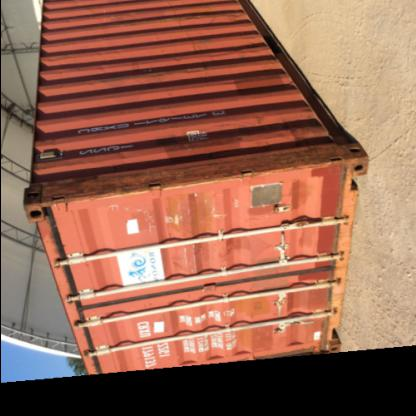Damage: (43, 166, 206, 210), (226, 145, 350, 175), (76, 46, 116, 89), (145, 64, 210, 82), (229, 42, 266, 61), (158, 10, 212, 23), (92, 5, 111, 35), (216, 10, 247, 22), (290, 104, 310, 116)
